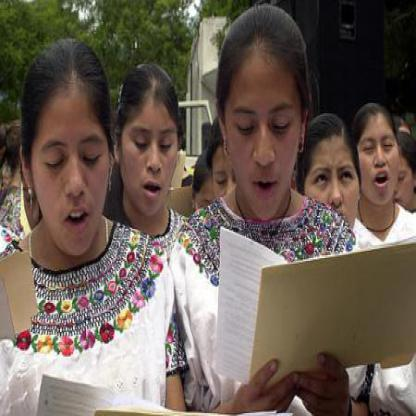face: (227, 17, 302, 223), (33, 58, 109, 259), (123, 71, 178, 218), (303, 116, 362, 243), (354, 103, 400, 208), (212, 122, 253, 226), (392, 143, 415, 211)
